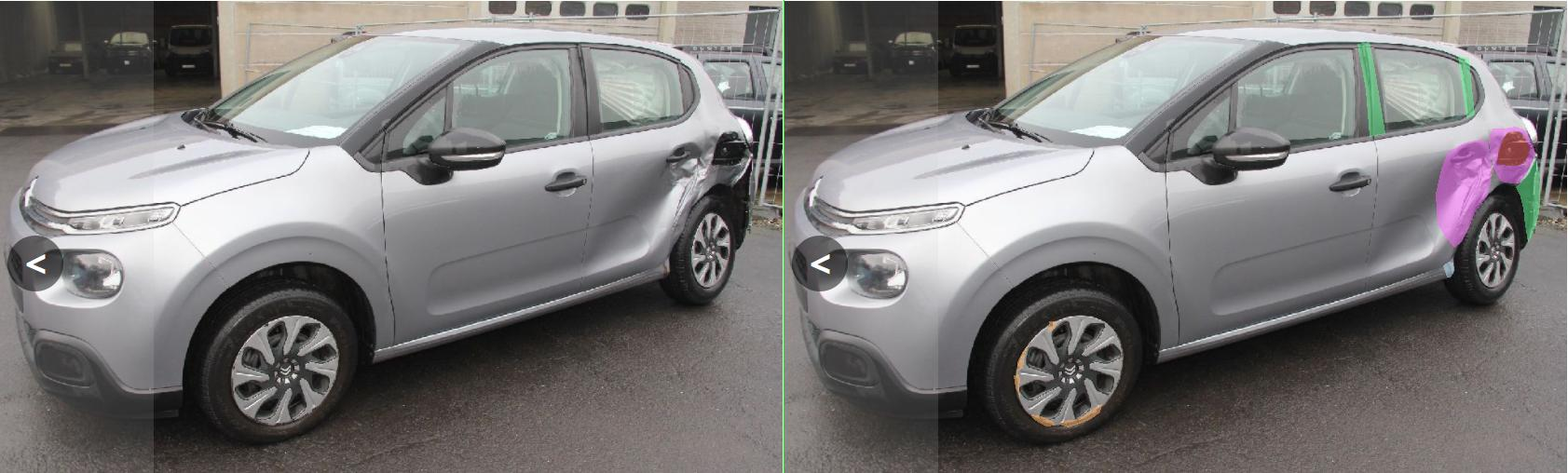Broken part: (1147, 42, 1201, 136), (1464, 158, 1510, 241), (1348, 56, 1380, 117)
Corrosion: (1318, 262, 1339, 277)
Dent: (1303, 140, 1413, 247), (1410, 127, 1501, 182)
Missing part: (1426, 131, 1490, 165)
Paint chip: (550, 404, 634, 426), (494, 414, 541, 426), (466, 346, 485, 370), (459, 374, 470, 396), (528, 321, 544, 331)
